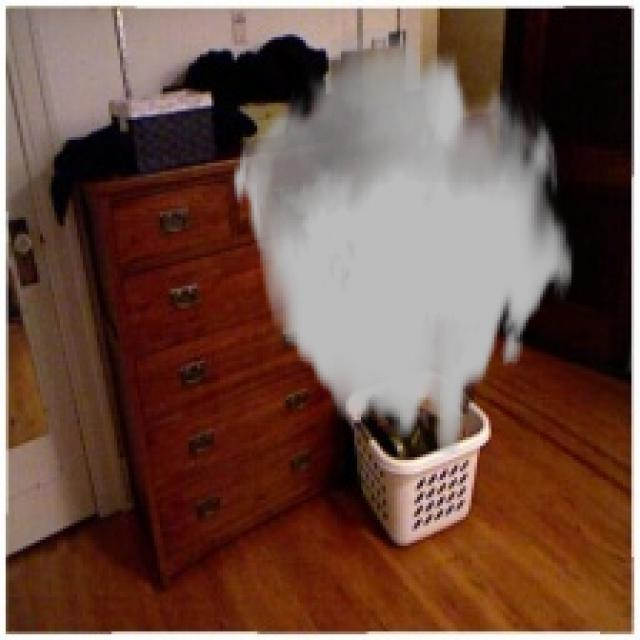smoke: (232, 29, 574, 454)
